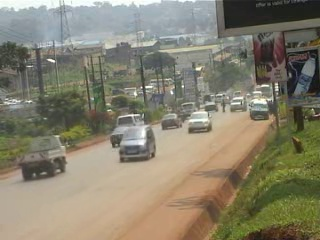Car: (116, 125, 158, 163), (184, 109, 215, 133), (109, 124, 132, 148), (159, 112, 183, 129), (228, 96, 247, 112), (203, 100, 219, 111)
